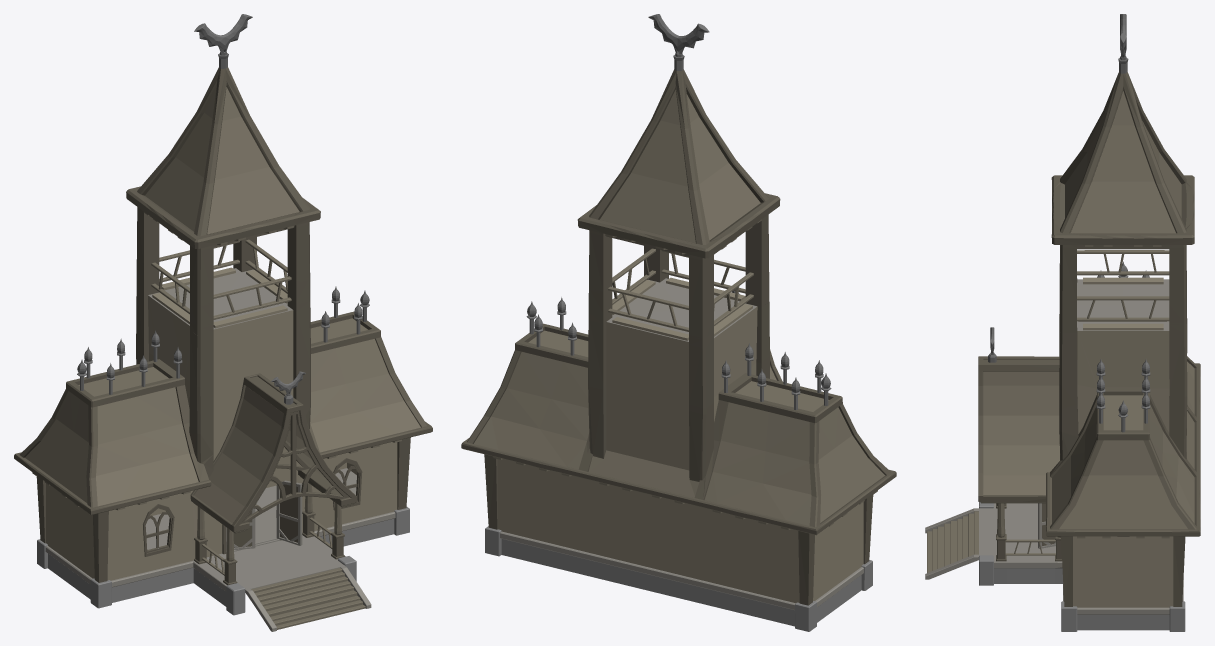
The model's file is cathedral_001.fbx.
3 renders of one model, left to right at view 1: azimuth 30°, elevation 25°; view 2: azimuth 150°, elevation 25°; view 3: azimuth 270°, elevation 25°, orthographic. The views are drawn at different scales.
Parts seen in each view (by area): view 1: cathedral_001, door_right_001; view 2: cathedral_001; view 3: cathedral_001, door_right_001.
Boxes of the visible parts, bbox=[...] form: cathedral_001: bbox=[14, 14, 432, 631]; door_right_001: bbox=[276, 480, 302, 545]; cathedral_001: bbox=[461, 14, 896, 631]; cathedral_001: bbox=[925, 14, 1200, 631]; door_right_001: bbox=[1038, 503, 1055, 548].
Size of the model in its own units: 46.82 by 69.21 by 32.45.
